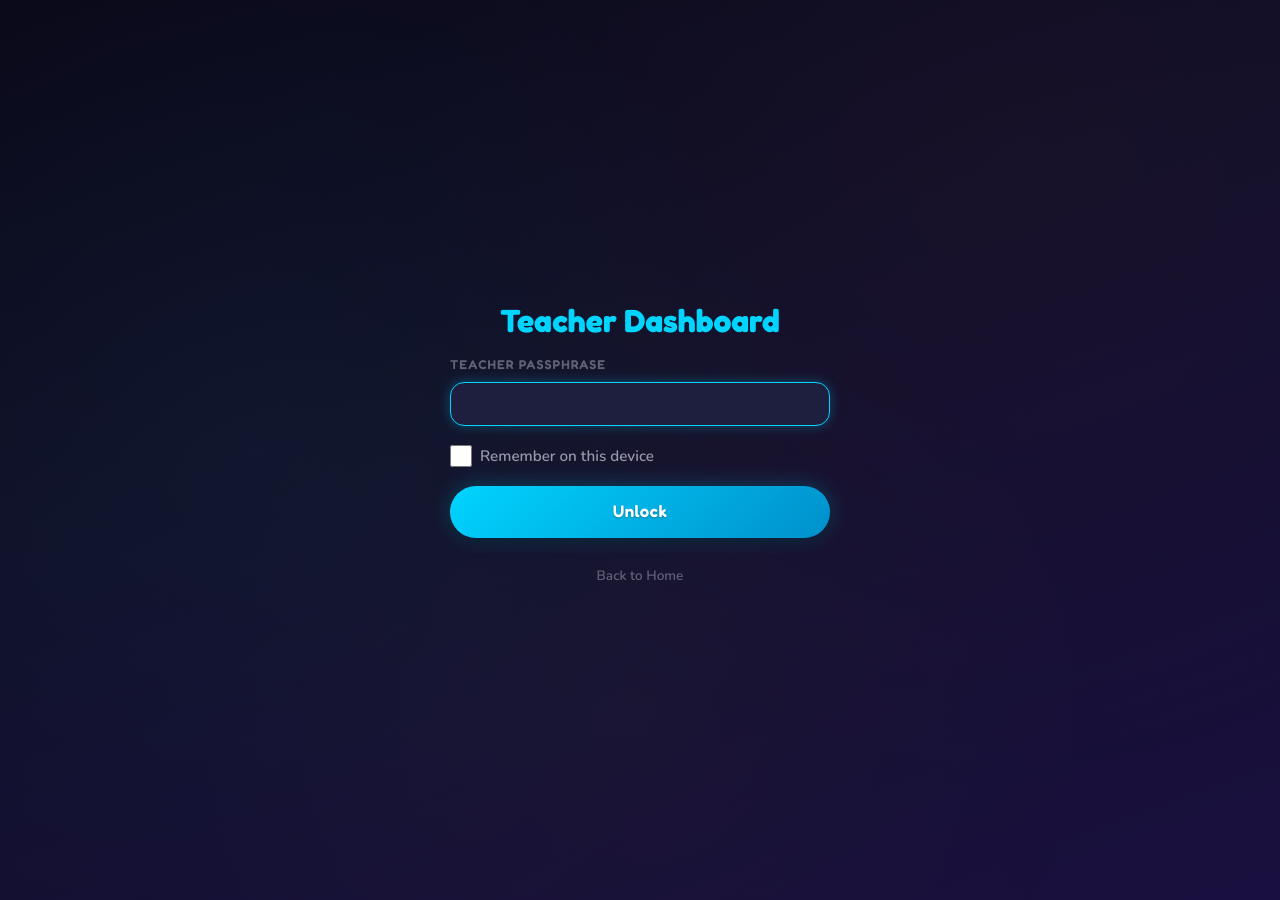
Test: TeacherMode — locked › shows the wrong-passphrase alert, clears the field and stores nothing
This screenshot has width=1280, height=900.
Type "wrong-phrase" into the password field with class "teacher-gate-input" at x=640, y=404, box [450, 382, 830, 426]
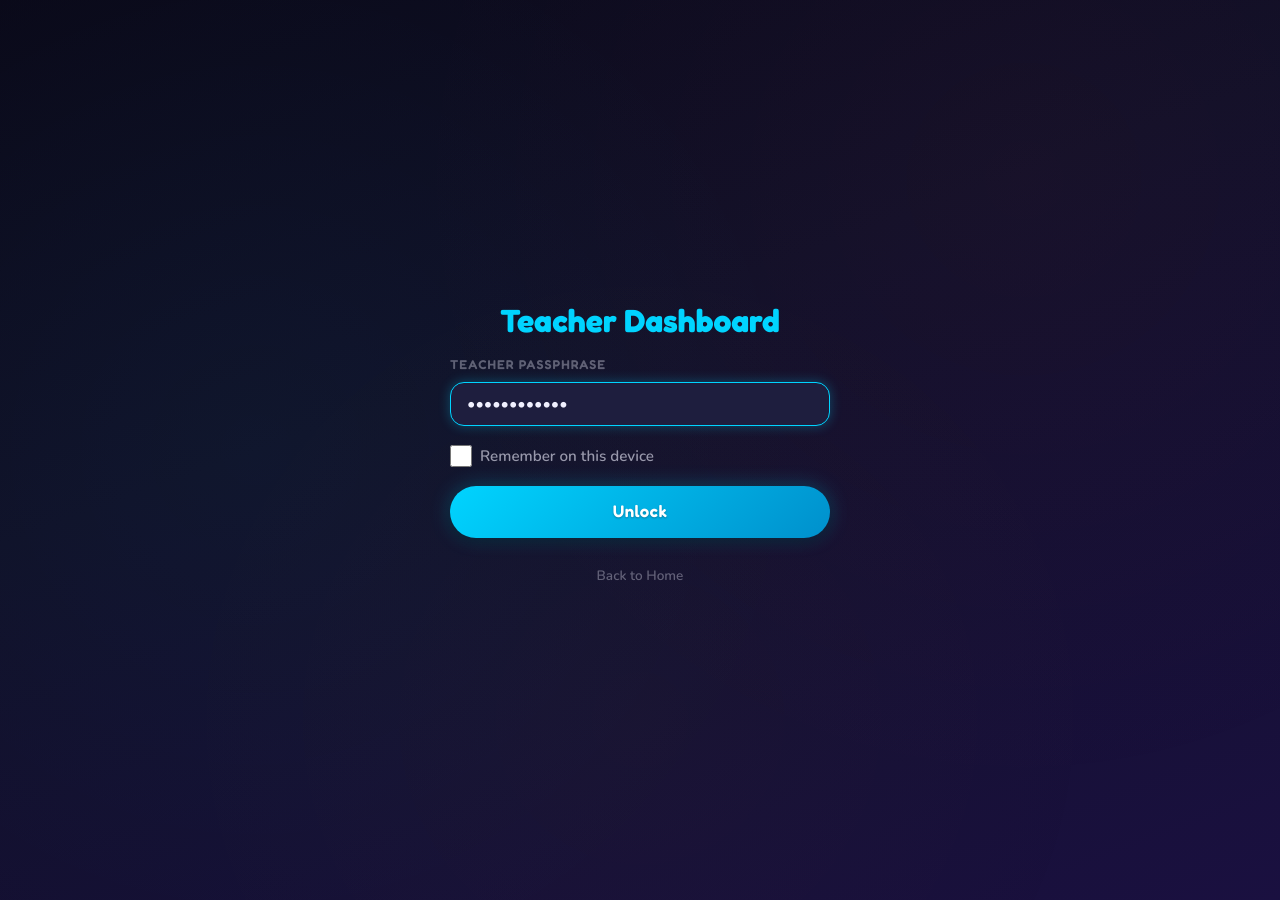
Submit the form with class "teacher-gate-form", box [450, 356, 830, 538]
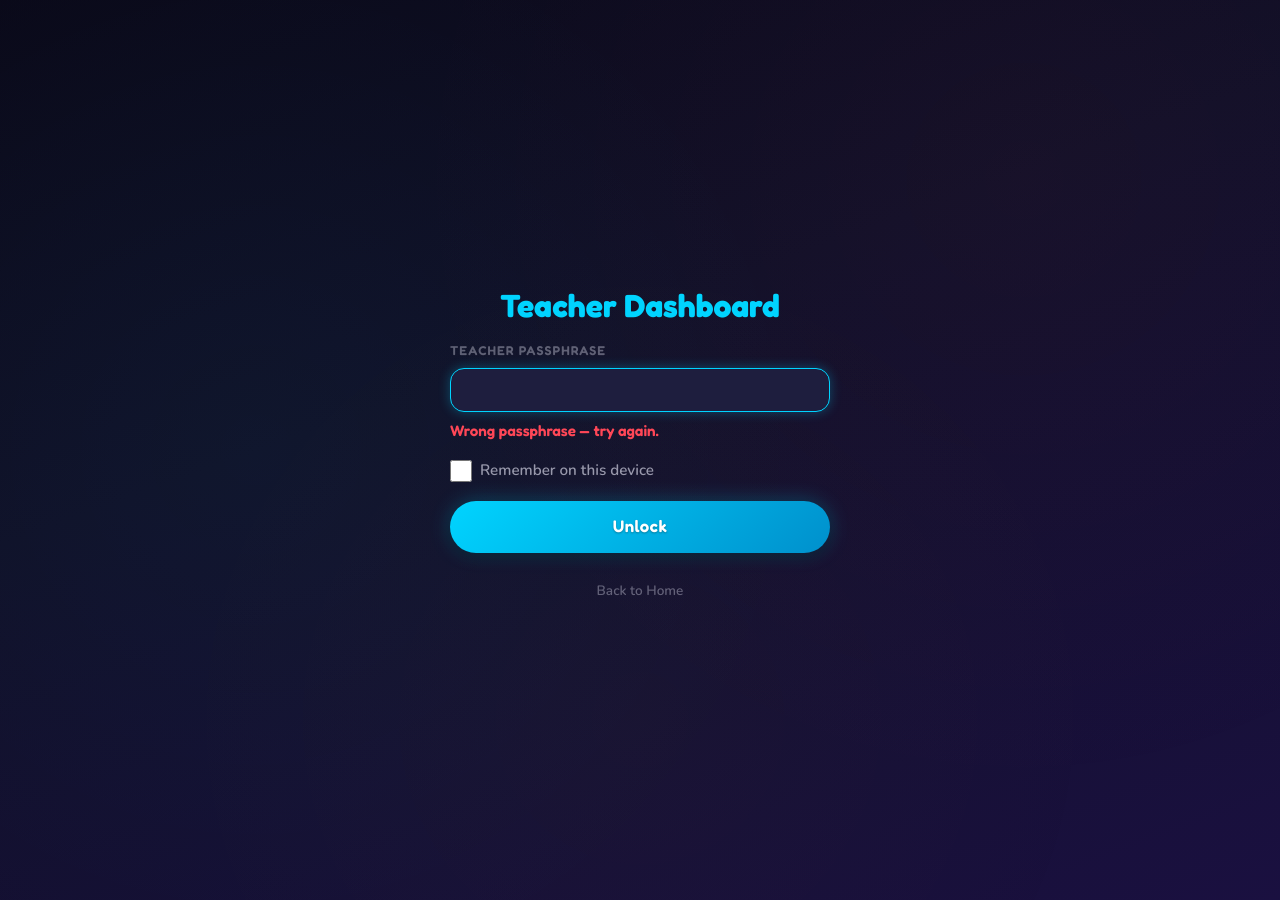
Now the message with class "teacher-gate-alert" reads "Wrong passphrase — try again.", box [450, 421, 659, 440]
Now the password field with class "teacher-gate-input" is empty, box [450, 368, 830, 412]
